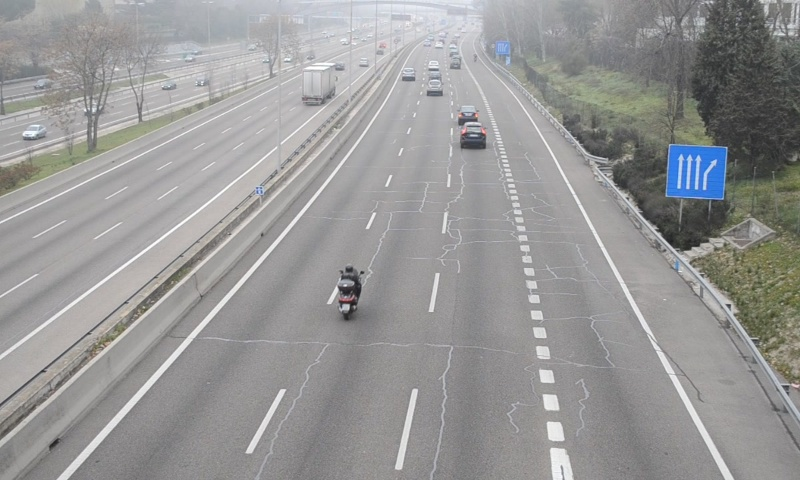car: (459, 122, 487, 148), (456, 105, 478, 124), (425, 78, 443, 96)
motorcycle: (337, 263, 363, 320)
